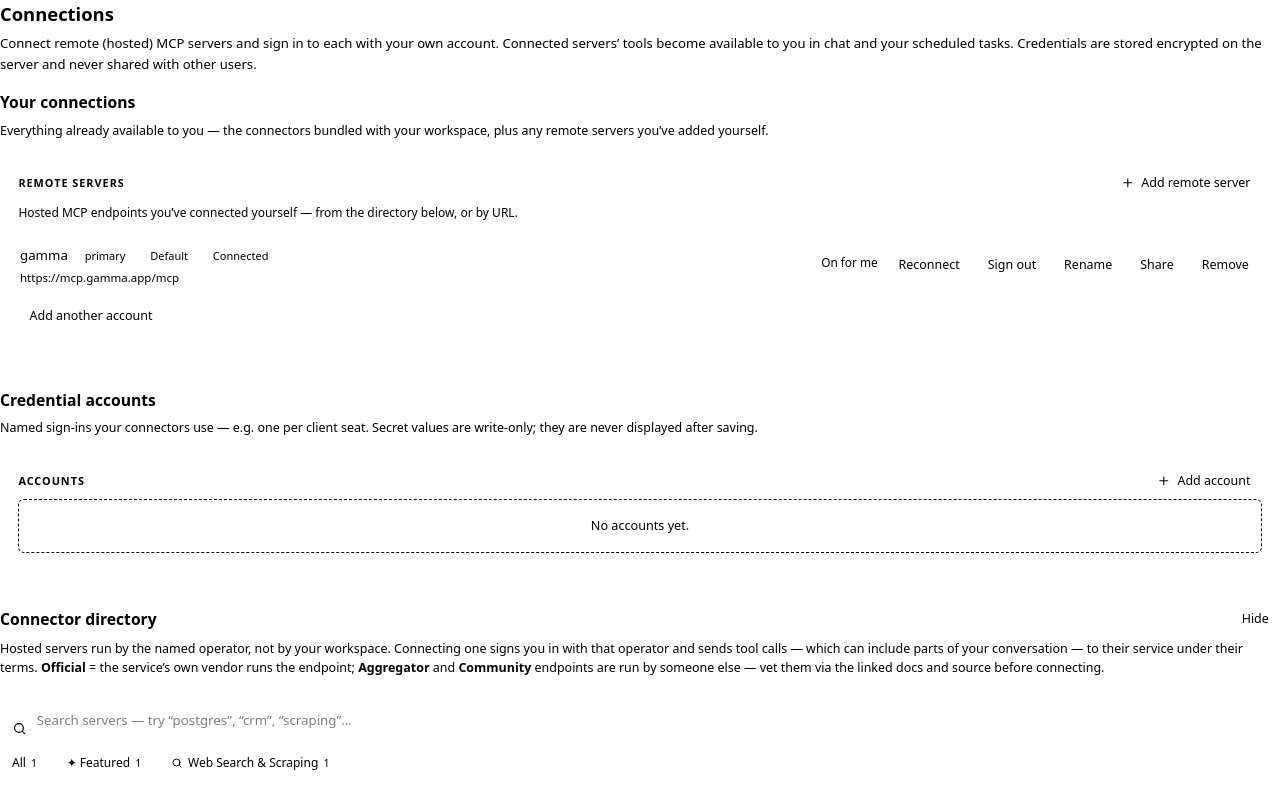
Scenario: ConnectionsPage multi-login seats › Add another account requires a label and POSTs it (OAuth: no auth key, sign-in prompt)
Click the button with test id "add-seat-gamma": coordinates (91, 316) [18,302,164,330]
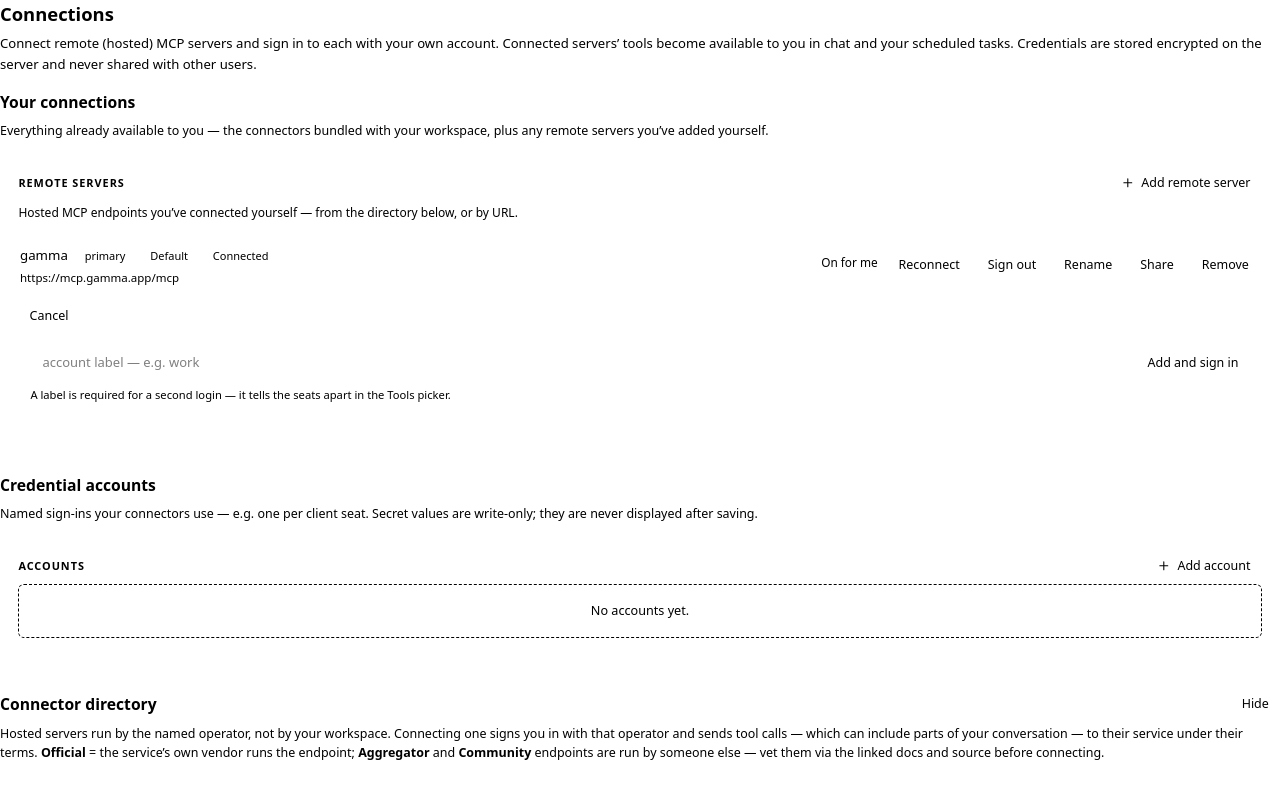
Expected: the button with test id "add-seat-submit-gamma" is disabled, [1136,349,1250,377]
In the field named "Account label for the new gamma login": coordinates (579, 363) [30,347,1128,379], type "personal"
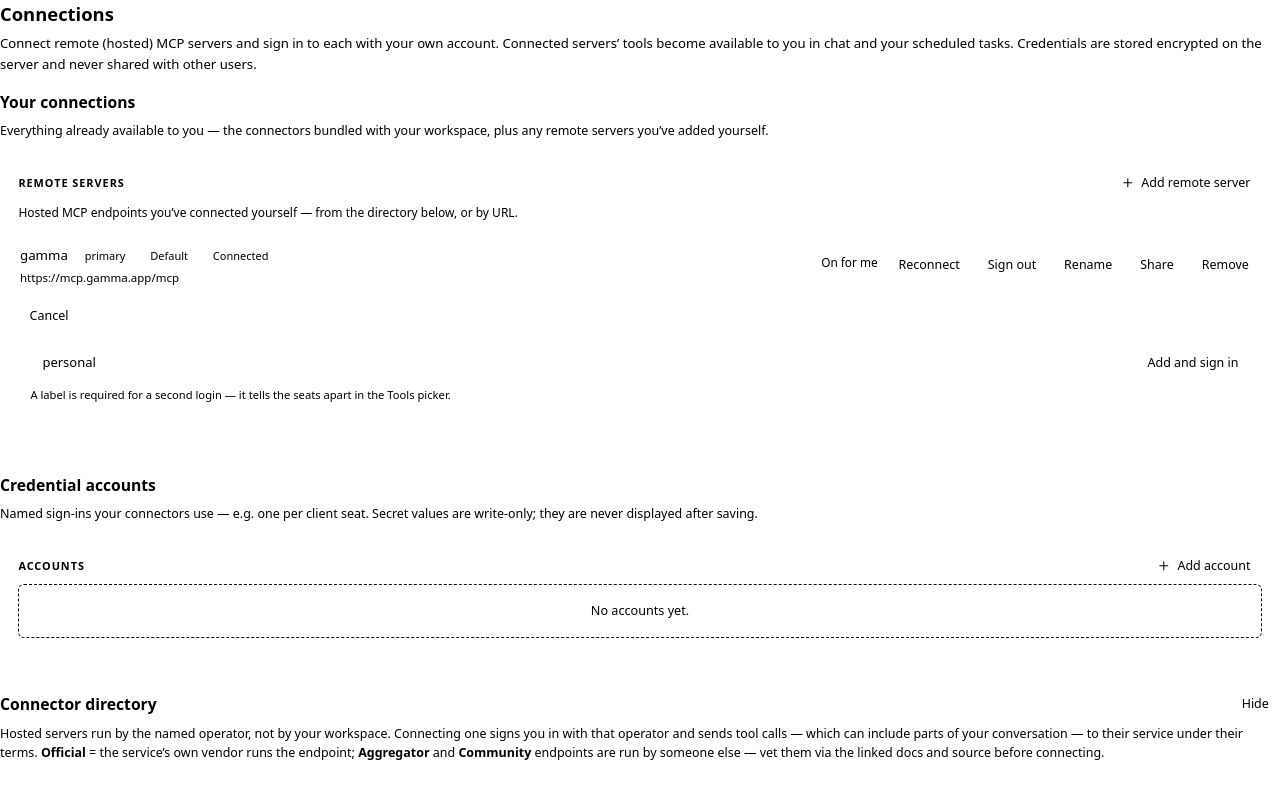
Click the button "Add and sign in": coordinates (1193, 363) [1136,349,1250,377]
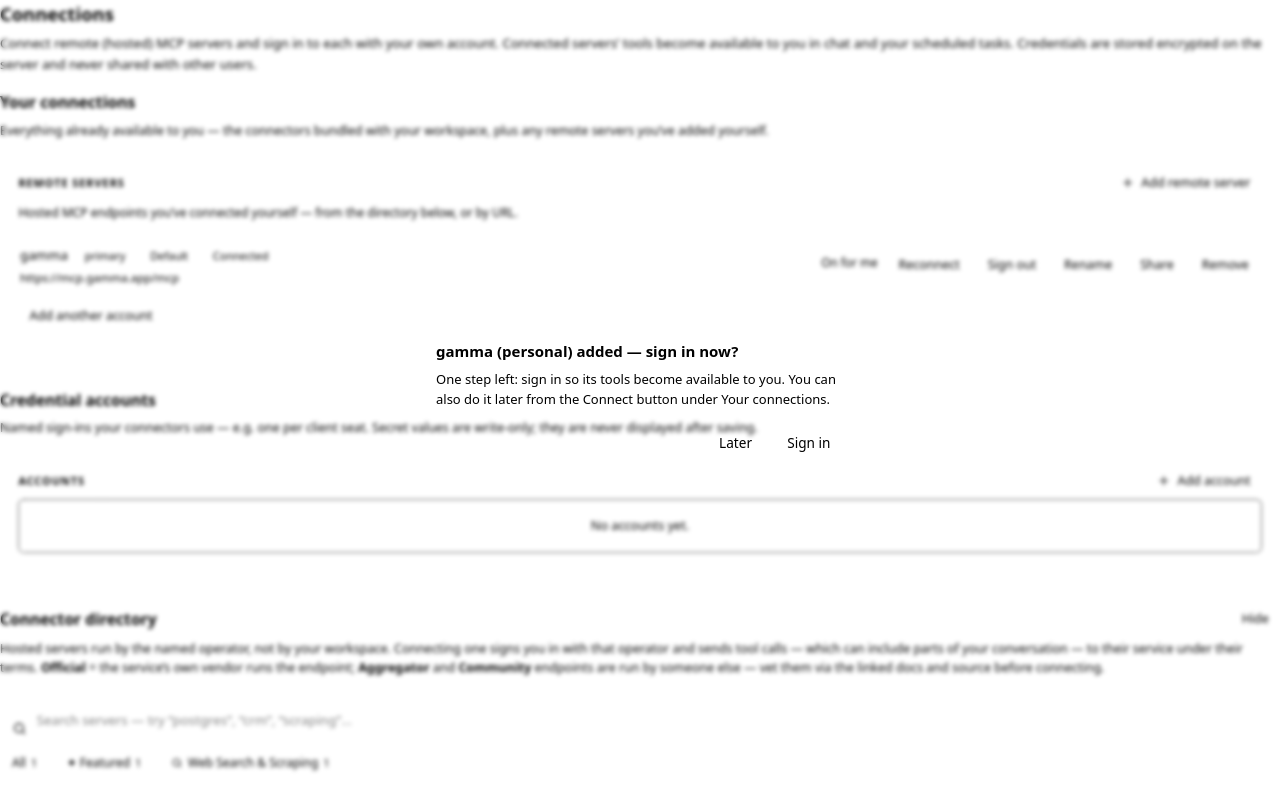
Expected: the dialog named "Sign in to gamma (personal)?" is shown, [416,320,864,480]
